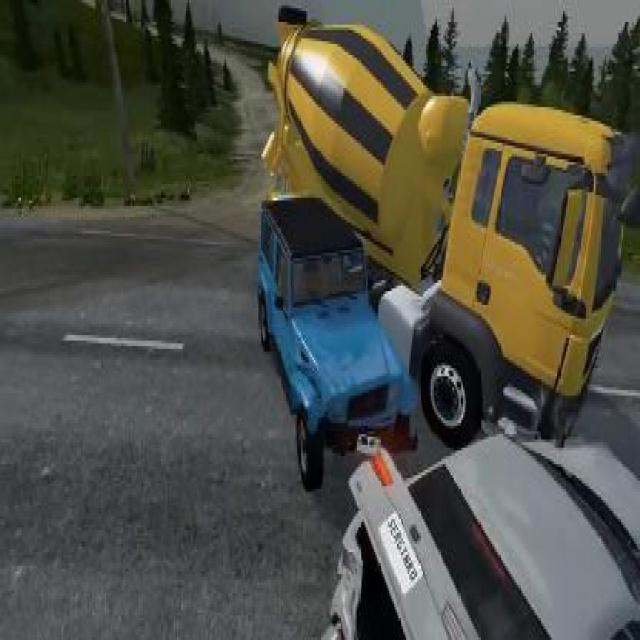accident: (246, 0, 639, 503)
